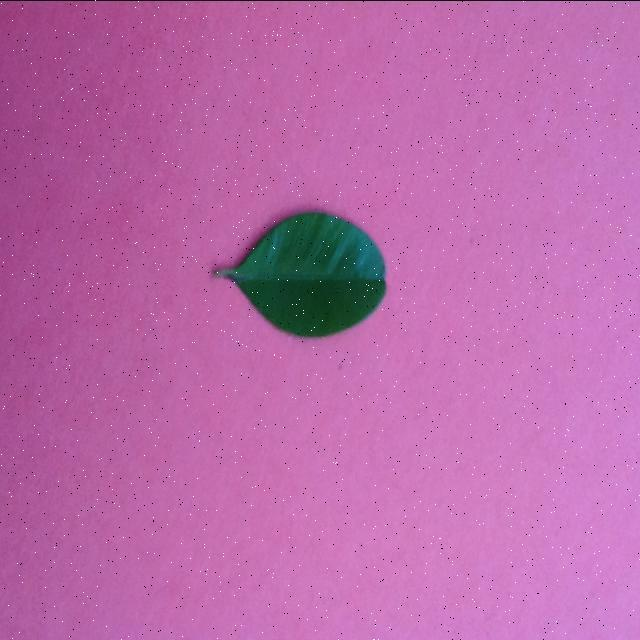foliage: (216, 207, 392, 341)
